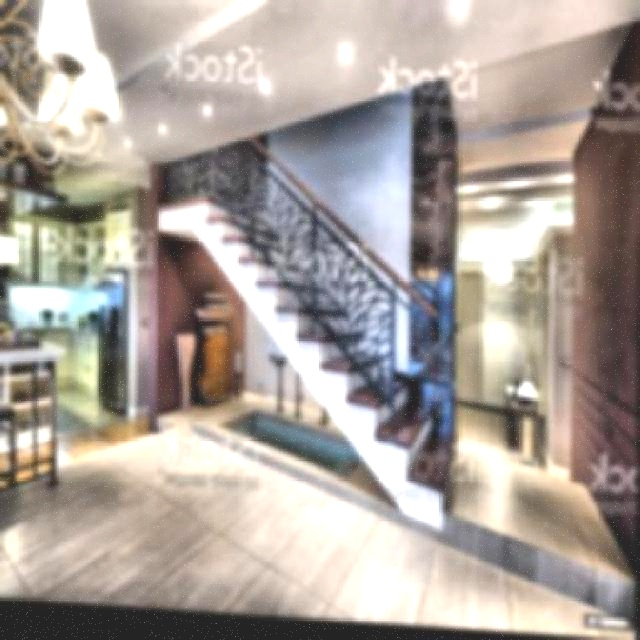stair: (157, 169, 446, 429)
